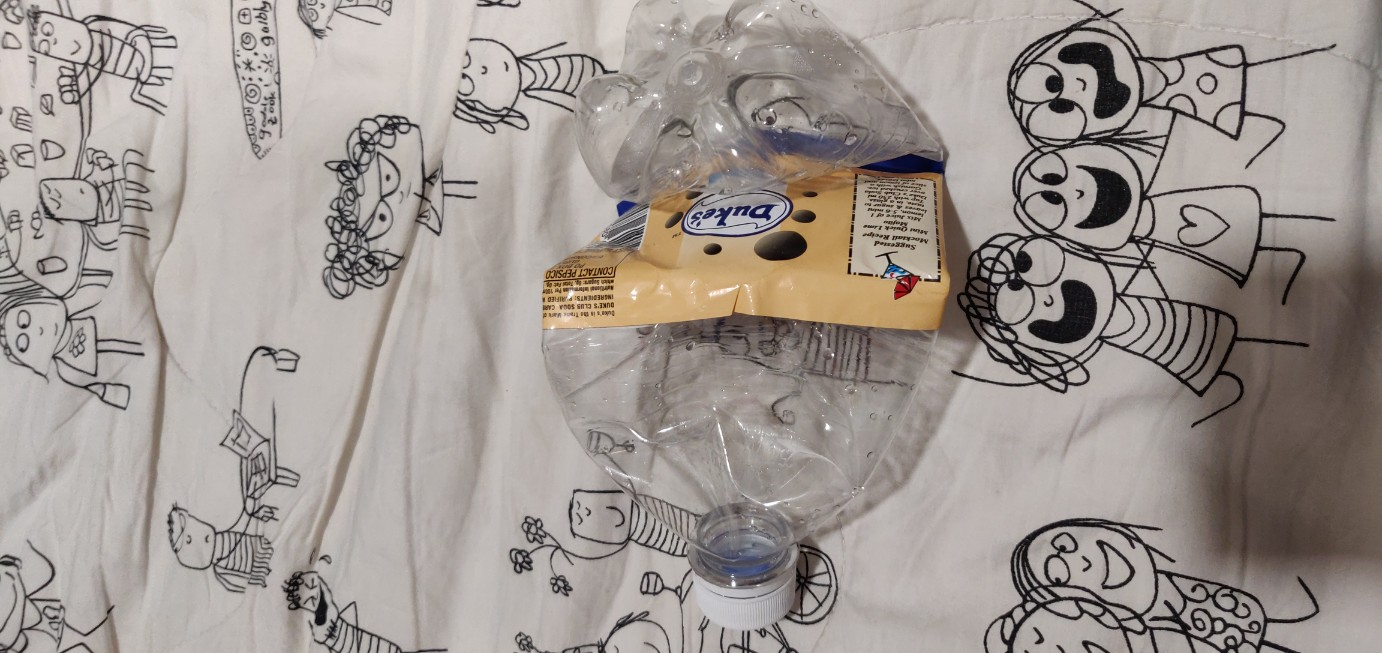Electronics: (523, 1, 990, 642)
